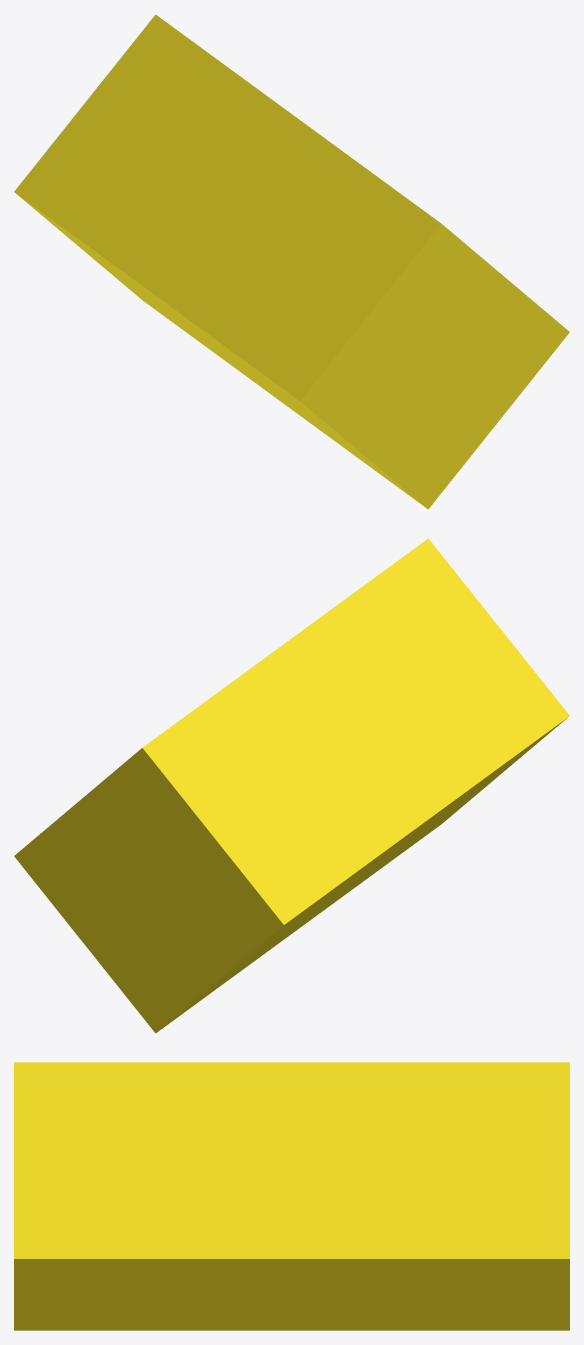
Rendered from bolt.glb.
The picture shows the model from 3 angles, top to bottom: view 1: azimuth 30°, elevation 25°; view 2: azimuth 150°, elevation 25°; view 3: azimuth 270°, elevation 25°; orthographic projection. The views are drawn at different scales.
Visible parts, largest first — view 1: mesh; view 2: mesh; view 3: mesh.
Boxes of the visible parts, box(x1,y1,x2,y2) form: mesh: box(14, 14, 569, 509); mesh: box(14, 538, 569, 1033); mesh: box(14, 1062, 569, 1330).
Size of the model in its own units: 0.1908 by 0.1909 by 0.35.
Materials: 1 (1 with a texture image).
